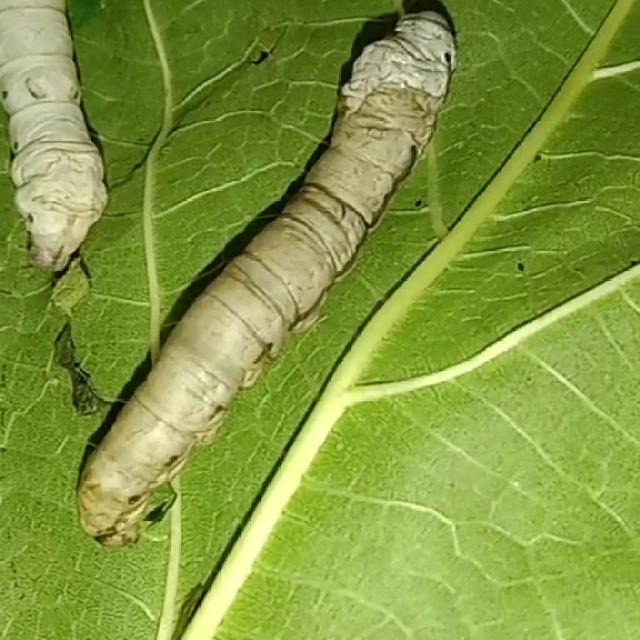Grasserie: (62, 0, 550, 574)
